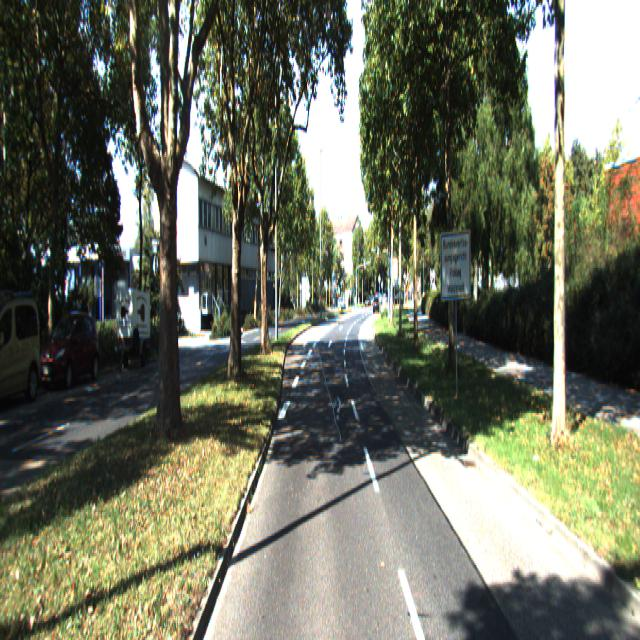Car: (0, 295, 47, 414), (41, 310, 102, 392), (117, 284, 154, 371)
